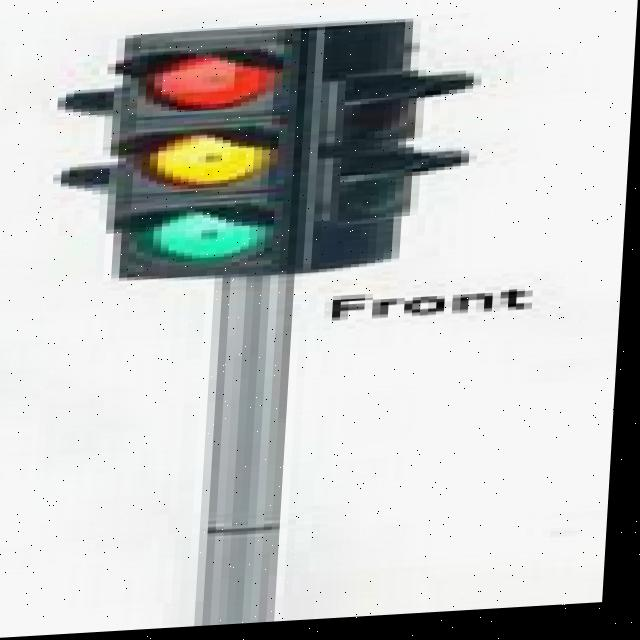light_traffic: (21, 0, 504, 292)
